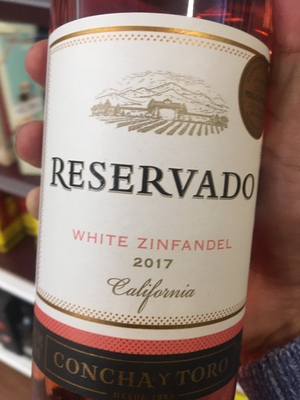reservado white zinfandel: (43, 5, 280, 400)
